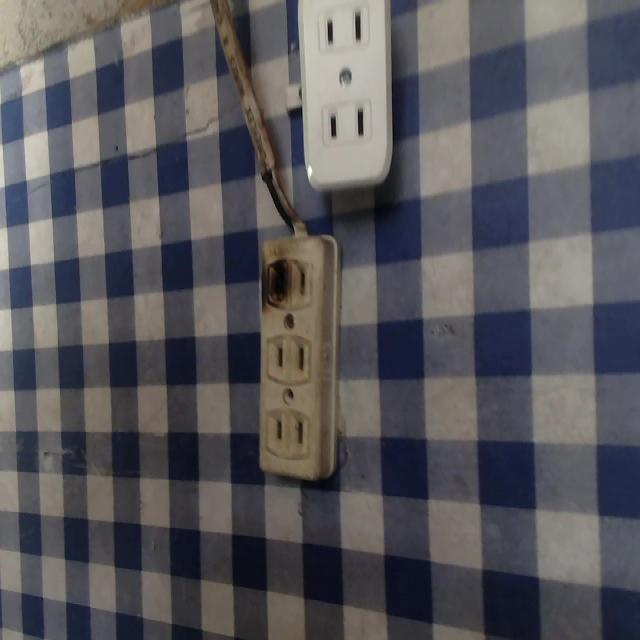-: (259, 254, 298, 314)
